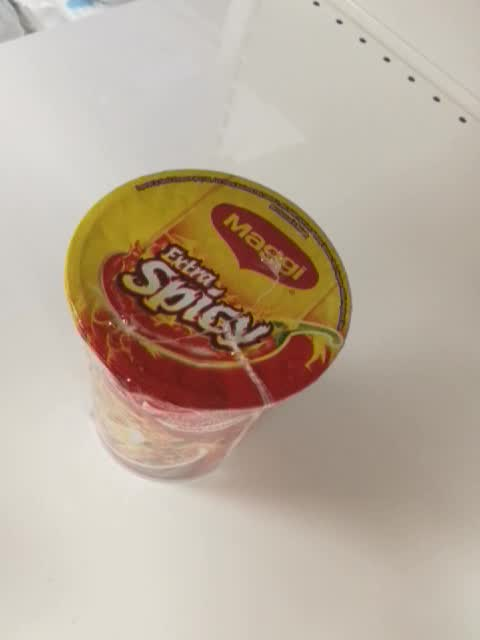maggi: (63, 166, 353, 483)
